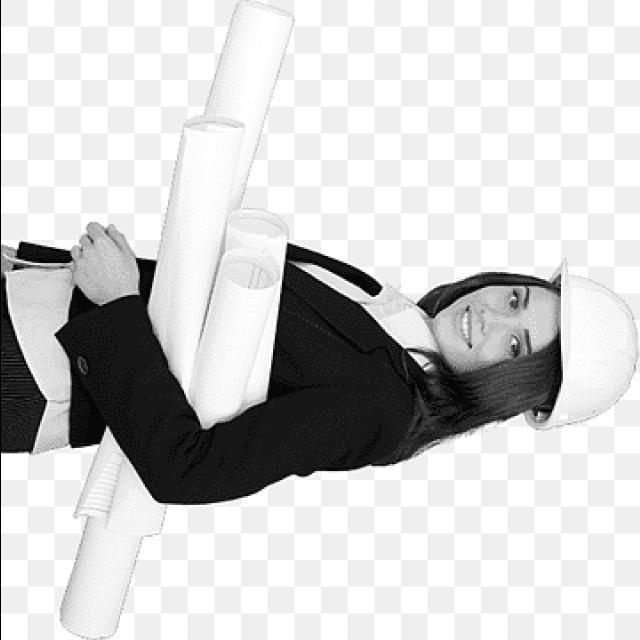safety_helmet: (524, 265, 635, 432)
